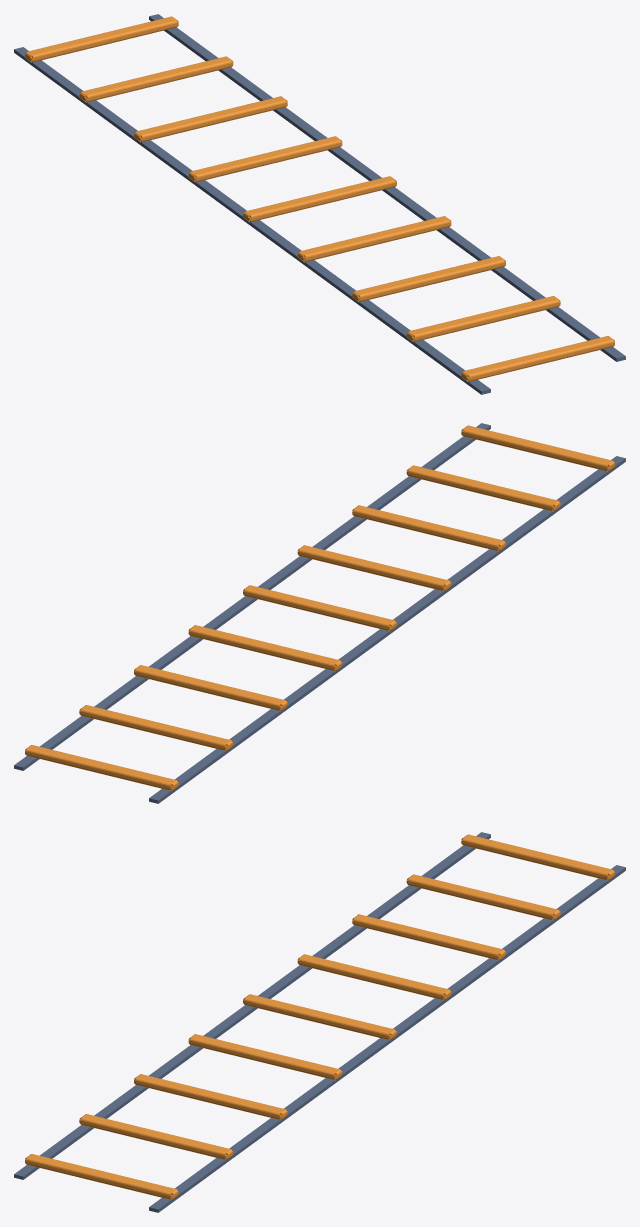
Rendered from basketball-club-and-street-courts-agility-ladder-31efb63a__28564.glb.
3 views of the same model, one above another, from view 1: azimuth 30°, elevation 25°; view 2: azimuth 150°, elevation 25°; view 3: azimuth 330°, elevation 25° (orthographic).
Parts seen in each view (by area): view 1: agility-ladder; view 2: agility-ladder; view 3: agility-ladder.
Boxes of the visible parts, <box> form: agility-ladder: <box>14,14,625,394</box>; agility-ladder: <box>14,423,625,803</box>; agility-ladder: <box>14,832,625,1212</box>.
Size of the model in its own units: 0.5498 by 0.037 by 3.
